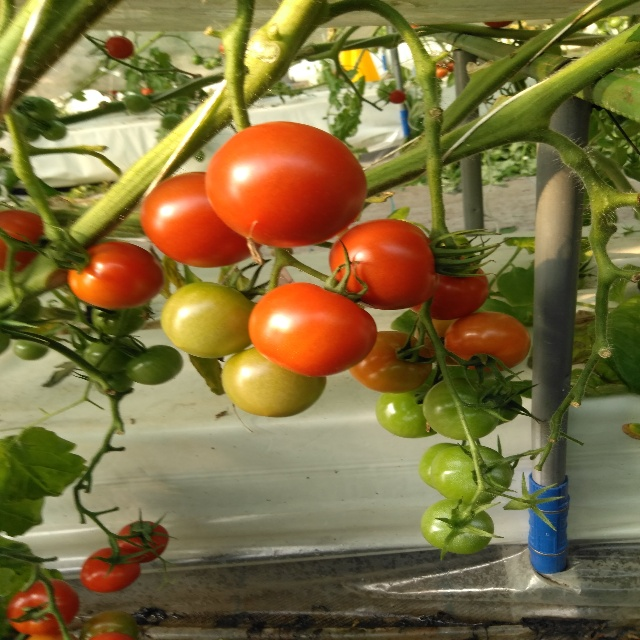l_fully_ripened: (205, 121, 369, 248), (249, 282, 379, 378), (140, 171, 262, 269), (328, 218, 439, 310), (67, 241, 165, 309), (408, 258, 489, 321), (8, 577, 79, 635), (0, 210, 48, 275), (79, 546, 141, 593), (114, 521, 169, 563)
l_green: (421, 377, 501, 442), (430, 444, 513, 506), (420, 498, 496, 554), (375, 384, 438, 438), (123, 345, 184, 386), (83, 336, 143, 372), (478, 380, 523, 426), (417, 442, 458, 489), (89, 305, 149, 336), (80, 610, 138, 640), (13, 339, 48, 360)
l_half_ripened: (221, 345, 326, 418), (161, 281, 256, 359), (348, 330, 433, 394), (444, 312, 531, 371), (413, 316, 465, 366)
